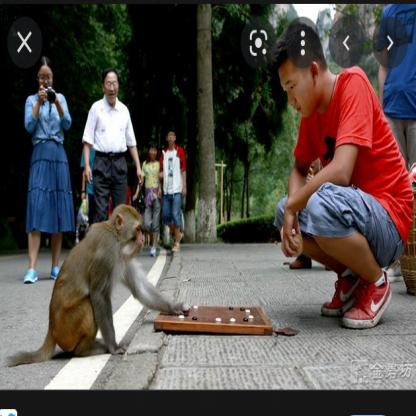monkey: (38, 203, 183, 361)
